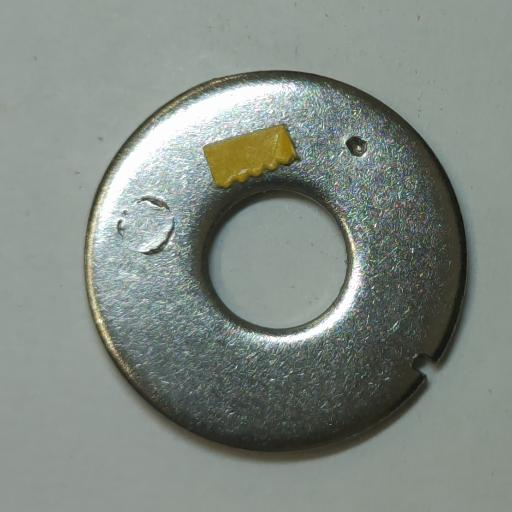burr: (408, 351, 437, 380)
